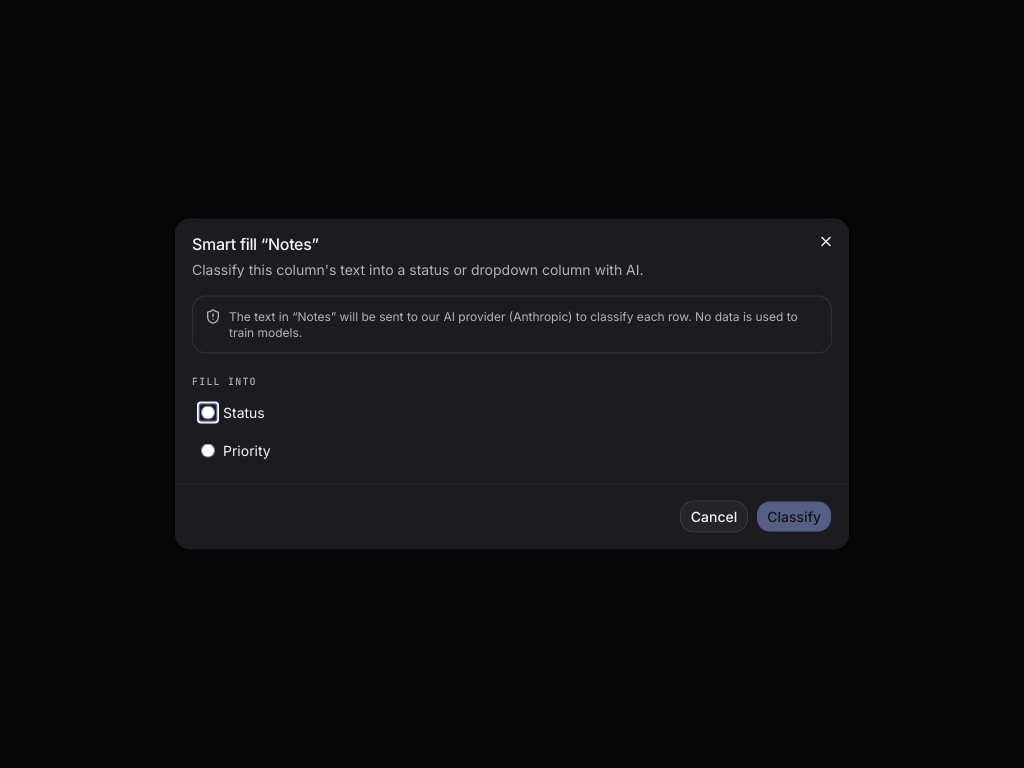
Test: SmartFillDialog › disables Classify until a target column is picked
Expected: the button "Classify" is disabled, [756, 500, 832, 532]
Click the radio button labelled "Status" at (208,412), box [201, 406, 215, 420]
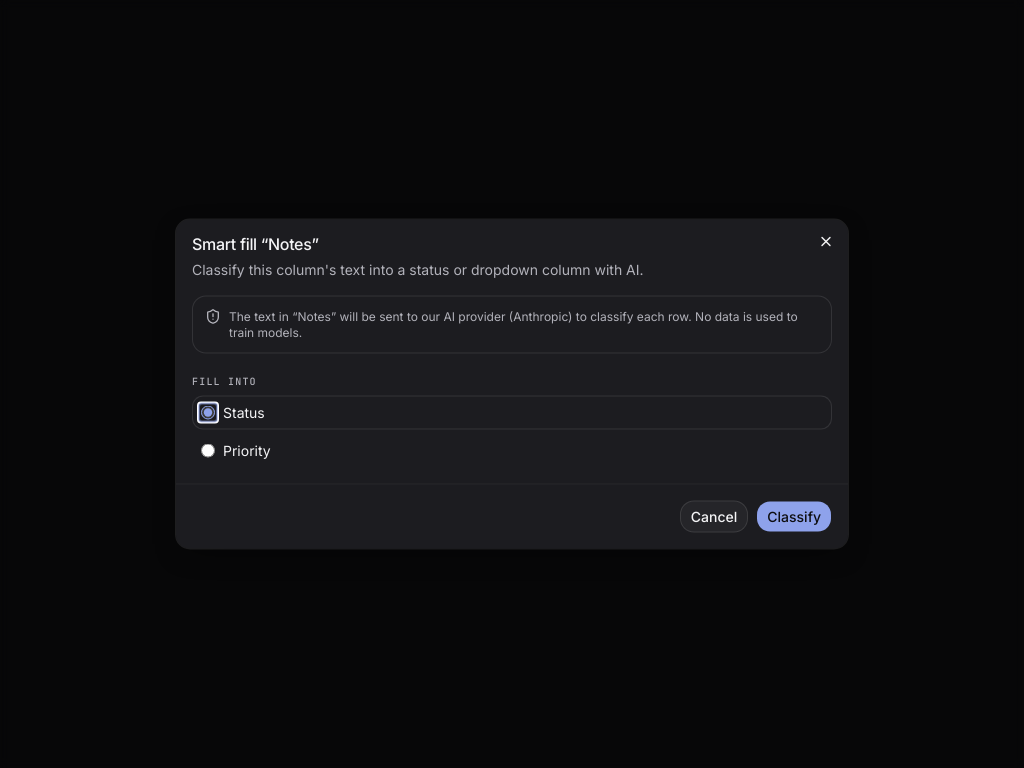
Expected: the button "Classify" is enabled, [756, 500, 832, 532]
